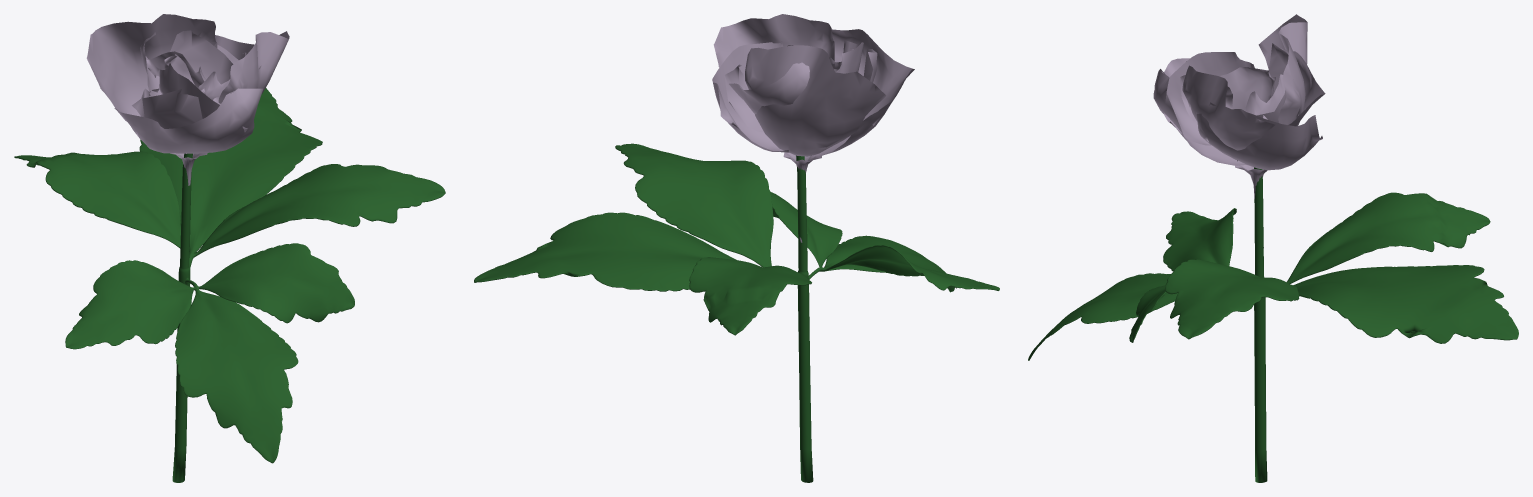
The model's file is peonycreamcp.glb.
3 renders of one model, left to right at view 1: azimuth 30°, elevation 25°; view 2: azimuth 150°, elevation 25°; view 3: azimuth 270°, elevation 25°, orthographic. The views are drawn at different scales.
Parts seen in each view (by area): view 1: maki.001; view 2: maki.001; view 3: maki.001.
Boxes of the visible parts, x1,y1,x2,y2 form: maki.001: [14, 14, 445, 482]; maki.001: [474, 14, 999, 482]; maki.001: [1028, 14, 1518, 482].
Bounding box in the file's own units: 2.99 × 3.4 × 3.42.
